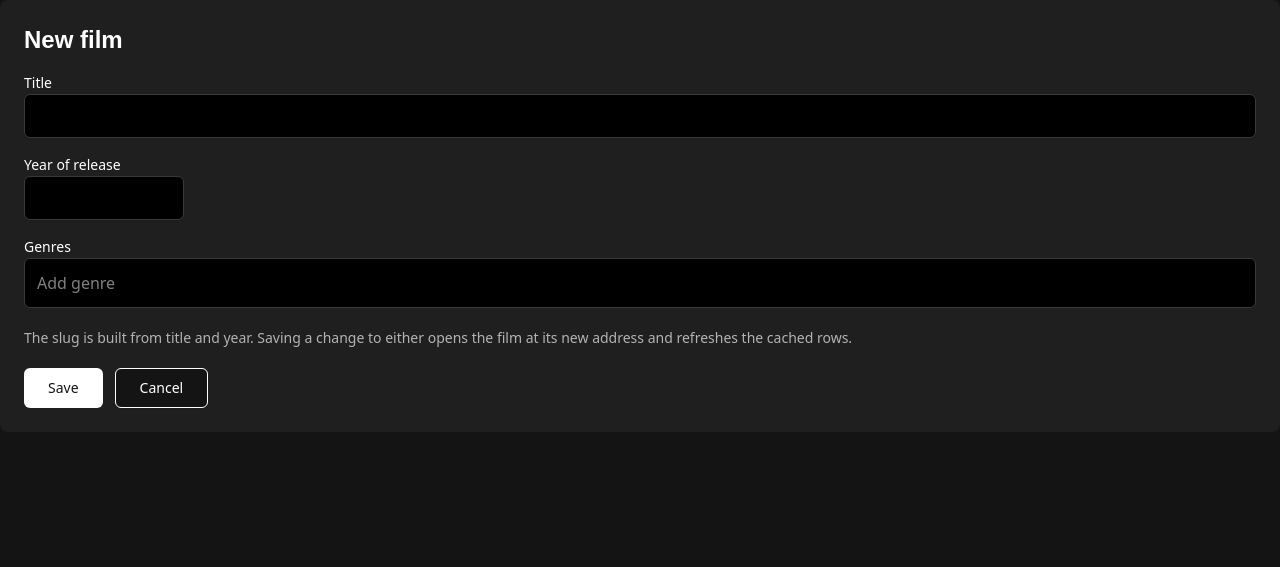
Test case: MovieForm › shows the api message next to the matching field on a 400
The width and height of the screenshot is (1280, 567).
Type "x" into the field labelled "Title" at (640, 116), box [24,94,1256,138]
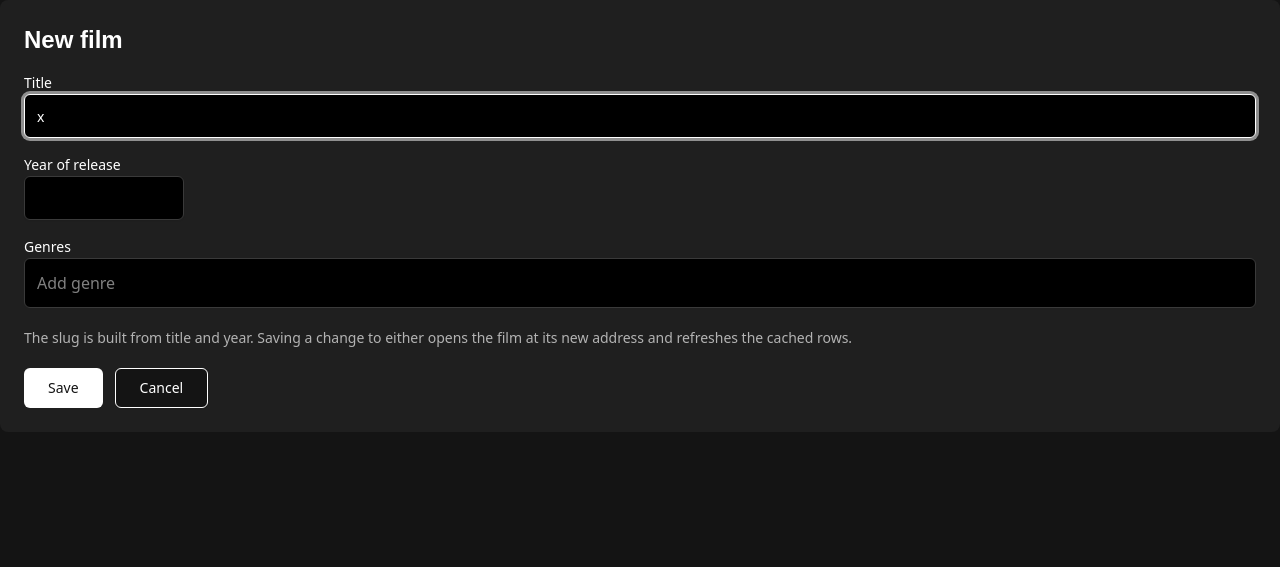
Type "2099" into the field labelled "Year of release" at (104, 198), box [24,176,184,220]
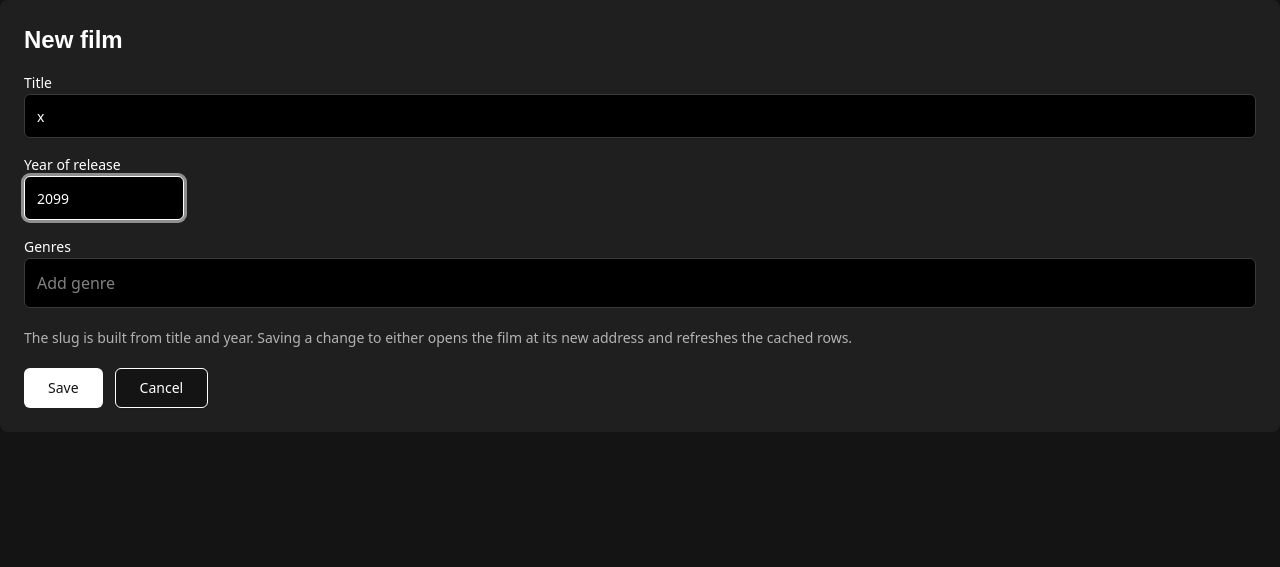
Click the button "Save" at (63, 388), box [24,368,103,408]
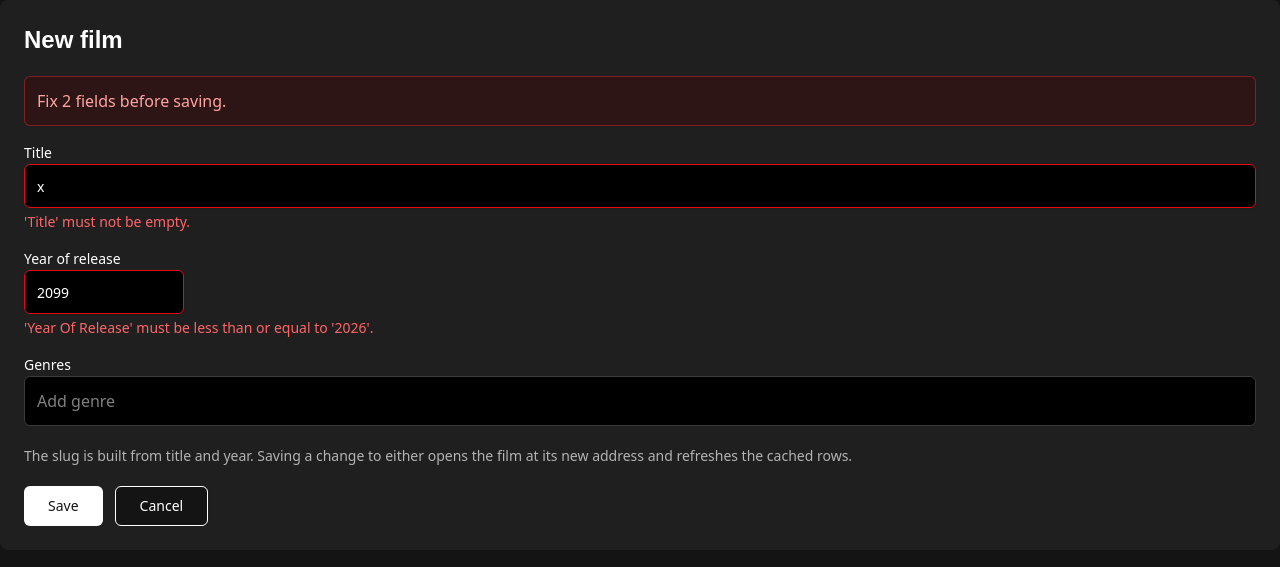
Now the text "'Title' must not be empty." is shown, box [24,212,190,231]
Now the message reads "Fix 2 fields before saving.", box [24,76,1256,126]
